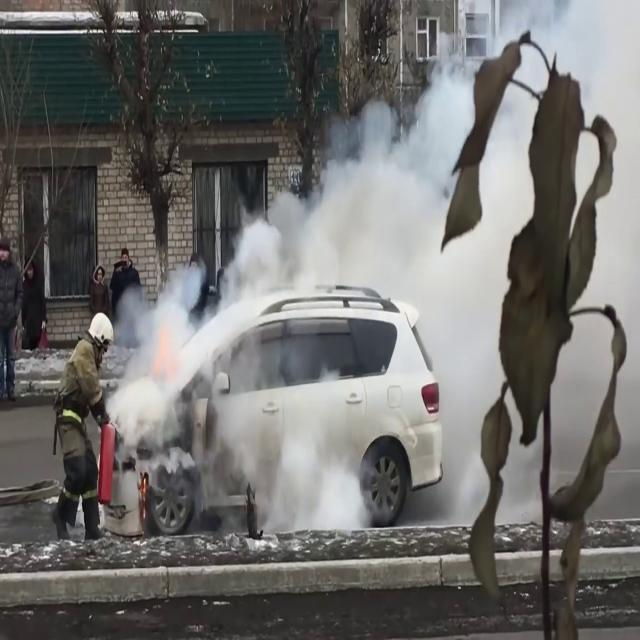Smoke: (111, 59, 477, 540)
